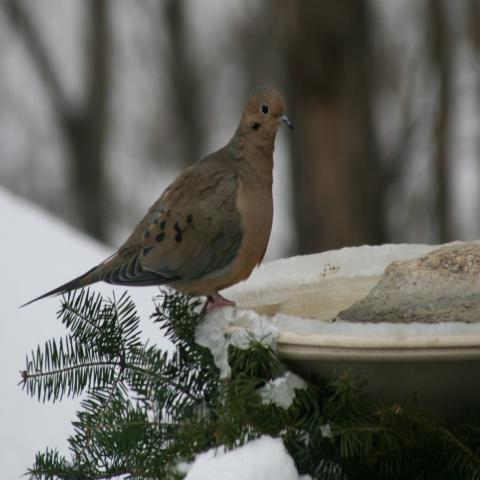bird: (19, 83, 296, 320)
